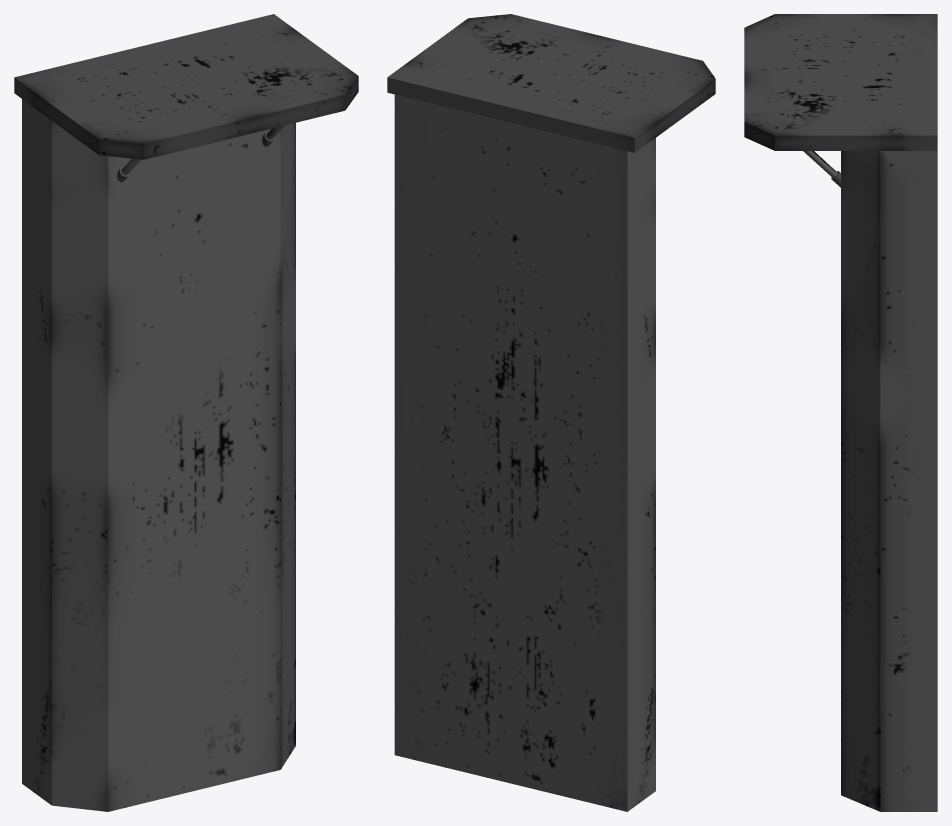
The model's file is Base_Ground_2x3_Cap_Suspended_V1.fbx.
3 views of the same model, side by side, from view 1: azimuth 30°, elevation 25°; view 2: azimuth 150°, elevation 25°; view 3: azimuth 270°, elevation 25° (orthographic). The views are drawn at different scales.
Parts seen in each view (by area): view 1: Base Ground 2x3 Cap Suspended V1; view 2: Base Ground 2x3 Cap Suspended V1; view 3: Base Ground 2x3 Cap Suspended V1.
Part boxes in pixels (bbox=[...]): Base Ground 2x3 Cap Suspended V1: bbox=[14, 14, 358, 811]; Base Ground 2x3 Cap Suspended V1: bbox=[387, 14, 715, 811]; Base Ground 2x3 Cap Suspended V1: bbox=[744, 14, 937, 811].
Bounding box in the file's own units: 298 × 778 × 200.
